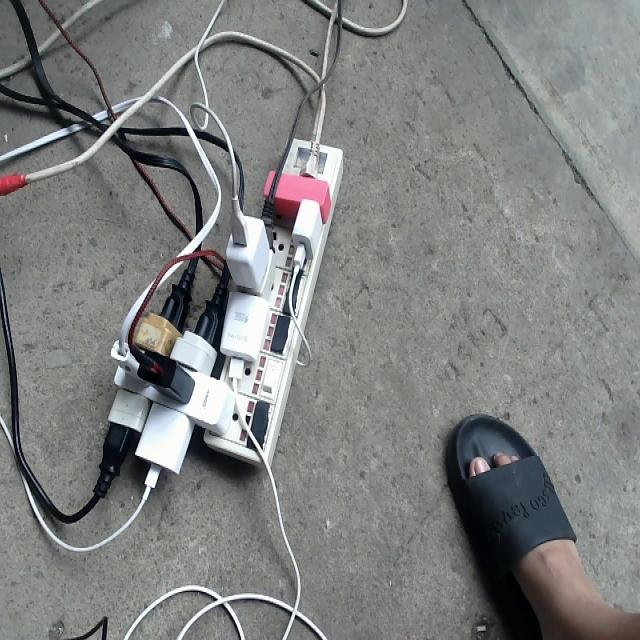-: (97, 136, 340, 468)
